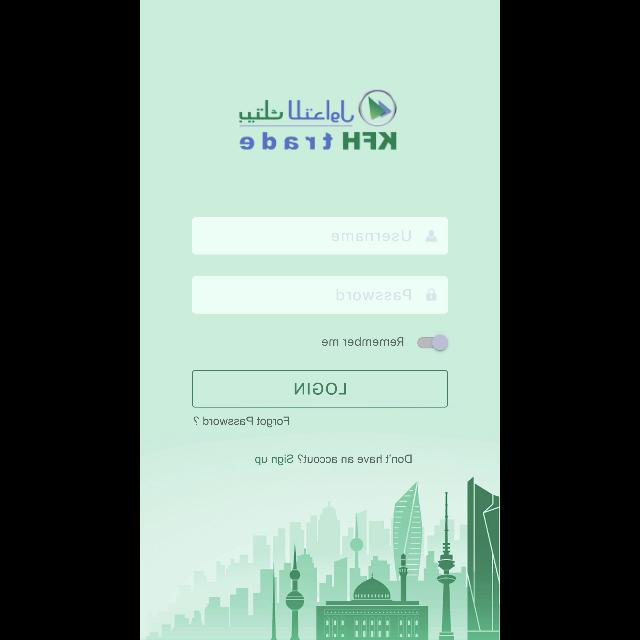backgroundimage: (140, 1, 500, 640)
icon: (426, 288, 436, 300), (426, 230, 436, 242)
image: (240, 90, 396, 150)
input: (192, 276, 448, 314), (192, 218, 448, 255)
switch: (418, 334, 448, 350)
text: (194, 417, 288, 428), (332, 230, 411, 242), (297, 455, 411, 463), (322, 336, 403, 346), (337, 290, 411, 300), (255, 454, 293, 466)
textbutton: (192, 370, 448, 408)
